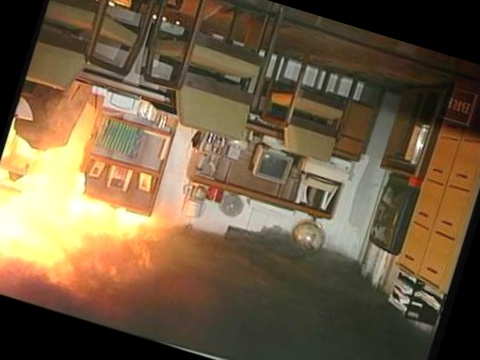fire: (0, 98, 171, 325)
